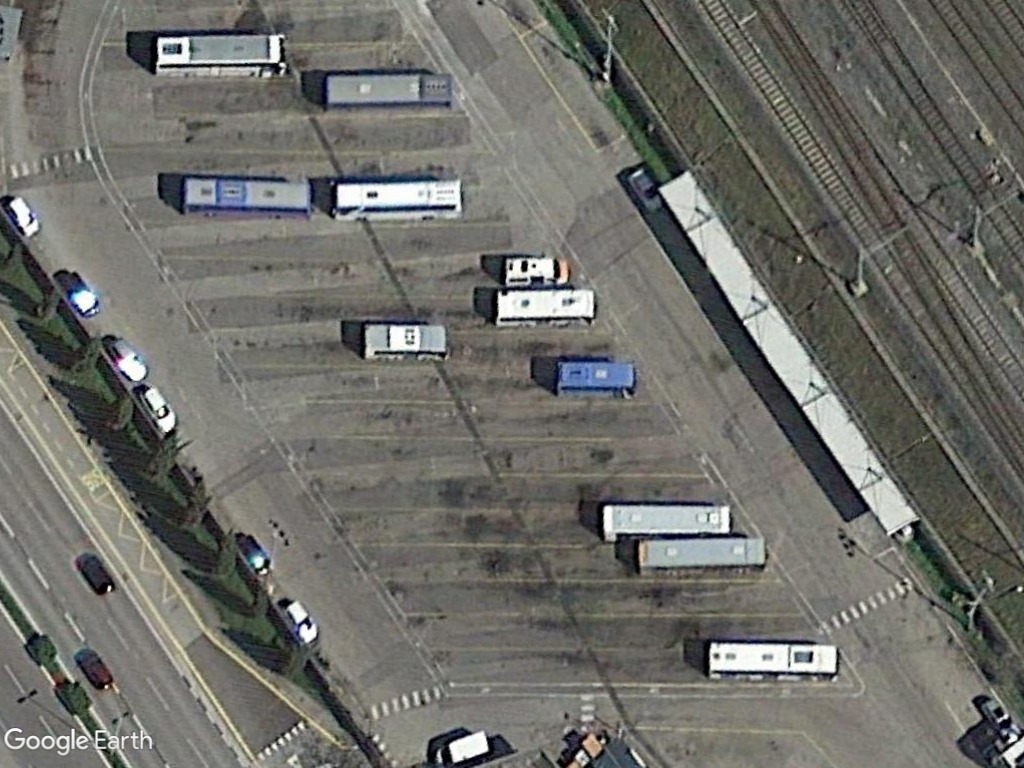bus: (702, 635, 846, 686), (176, 171, 315, 223), (325, 176, 468, 226), (151, 32, 291, 82), (595, 498, 737, 545), (321, 68, 458, 116), (633, 534, 768, 580), (355, 316, 456, 366), (493, 288, 597, 333), (549, 355, 641, 404)
car: (620, 162, 666, 216), (0, 190, 43, 241)
other: (500, 250, 573, 289)
van: (428, 726, 494, 768)
